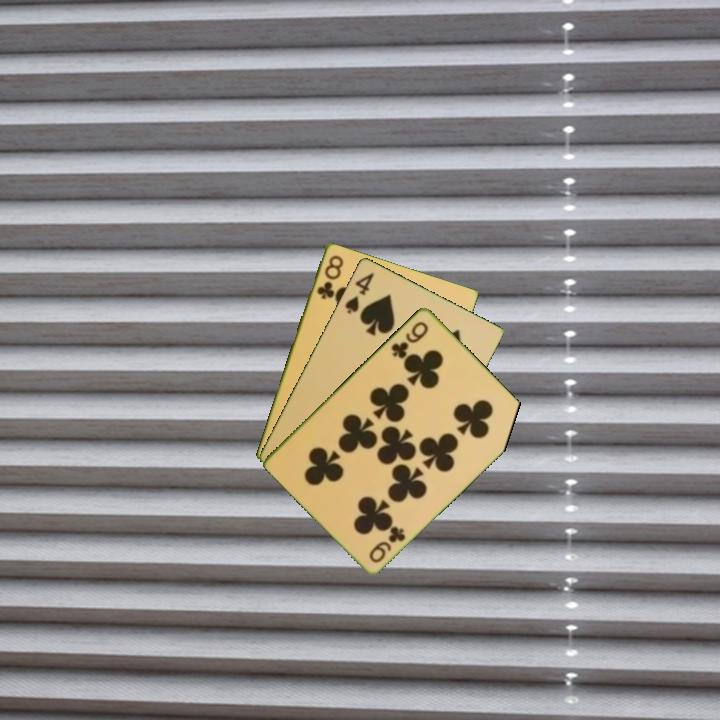4s: (341, 269, 377, 317)
8c: (313, 251, 346, 302)
9c: (387, 317, 431, 361), (366, 522, 409, 565)
